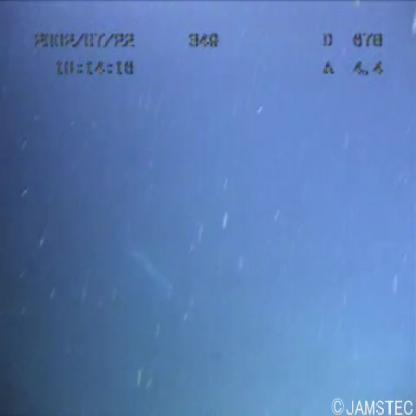Rác: (111, 231, 185, 305)
